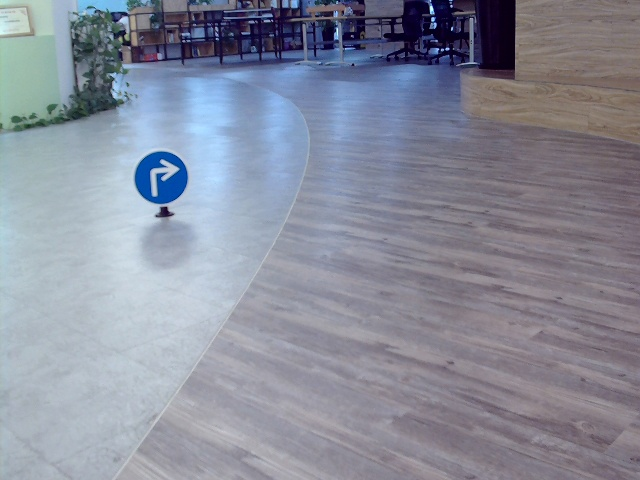turn_right: (143, 159, 180, 196)
